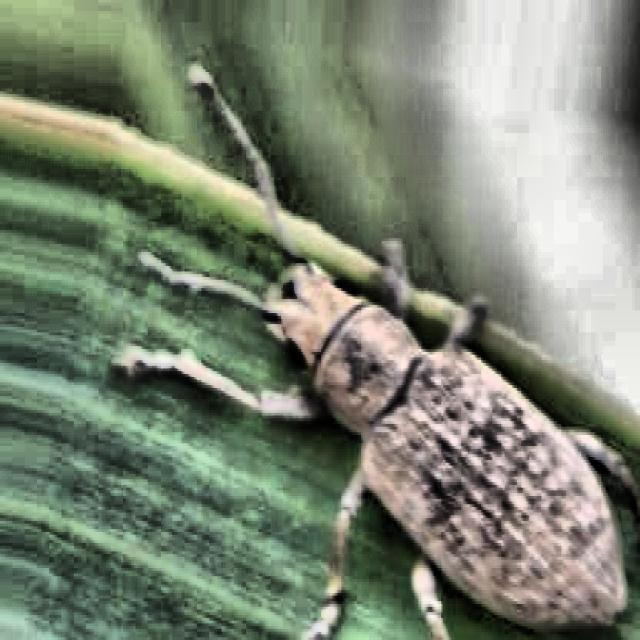Stink bug: (172, 162, 640, 640)
